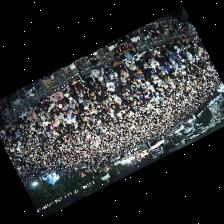person: (76, 66, 95, 86), (132, 50, 150, 68), (145, 52, 160, 69), (144, 62, 157, 78), (111, 60, 124, 75), (69, 78, 81, 94), (114, 76, 127, 90), (37, 98, 50, 111), (50, 90, 63, 102), (174, 45, 186, 58), (167, 49, 179, 62), (81, 83, 91, 98), (27, 108, 36, 124), (92, 67, 104, 79), (71, 91, 84, 102), (118, 68, 128, 81), (125, 57, 136, 68), (163, 41, 175, 51), (40, 110, 49, 123), (91, 83, 100, 96), (128, 66, 138, 77), (49, 101, 58, 113), (151, 45, 160, 57), (66, 95, 75, 107), (104, 64, 111, 79), (95, 76, 105, 86), (96, 94, 105, 105), (121, 83, 130, 94), (13, 116, 22, 127), (110, 68, 117, 82), (113, 84, 121, 96), (36, 112, 43, 125), (21, 109, 28, 122), (187, 36, 195, 47), (106, 79, 114, 90), (181, 38, 190, 47), (49, 110, 58, 119), (160, 46, 168, 56), (113, 93, 121, 103), (100, 85, 107, 96), (61, 87, 69, 96), (57, 113, 64, 123), (59, 103, 67, 111), (4, 124, 12, 132), (59, 108, 68, 115), (8, 119, 15, 128), (19, 123, 24, 133), (0, 128, 5, 138)
